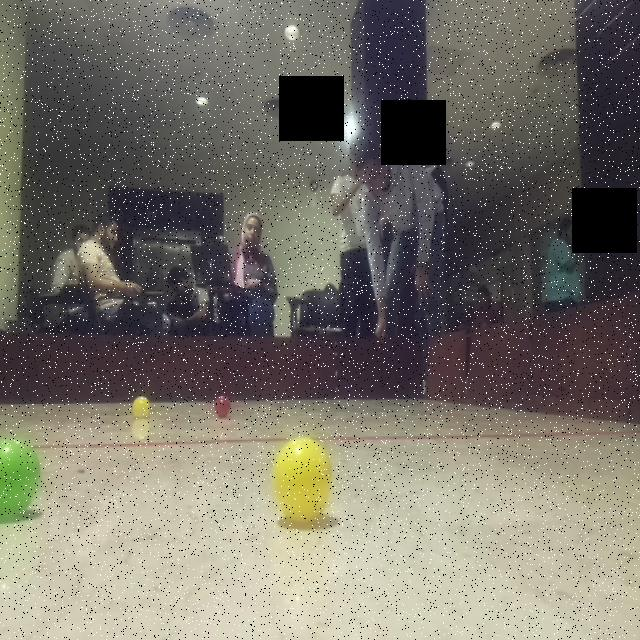ball: (270, 432, 338, 527), (3, 429, 46, 528), (129, 394, 154, 422), (213, 390, 233, 418)
